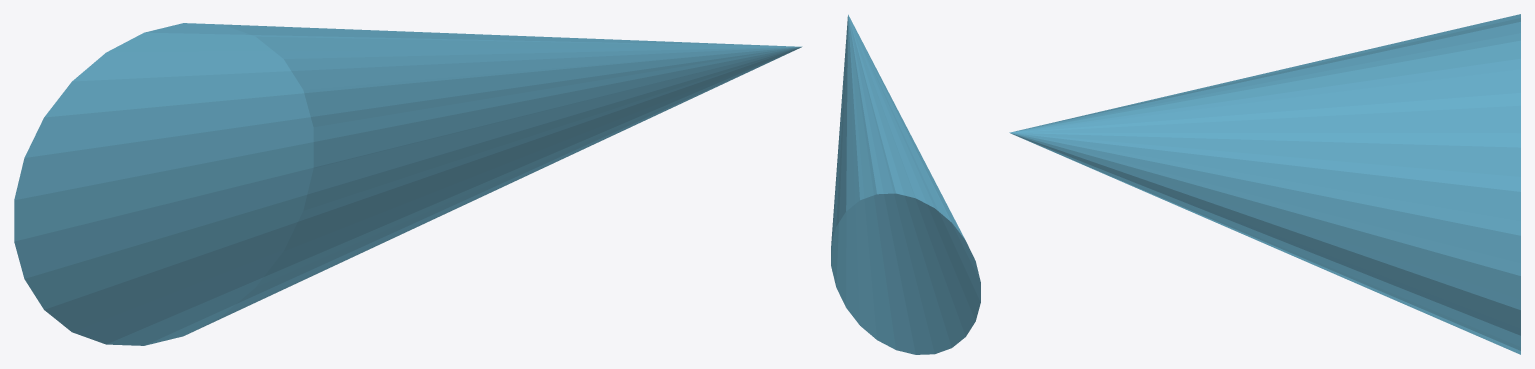
3 renders of one model, left to right at view 1: azimuth 30°, elevation 25°; view 2: azimuth 150°, elevation 25°; view 3: azimuth 270°, elevation 25°, orthographic. The views are drawn at different scales.
Visible parts, largest first — view 1: root; view 2: root; view 3: root.
Part boxes in pixels (x1,y1,x2,y2): root: (14,23,802,345); root: (831,14,980,354); root: (1009,14,1520,354).
Size of the model in its own units: 6.98 by 4.98 by 6.
